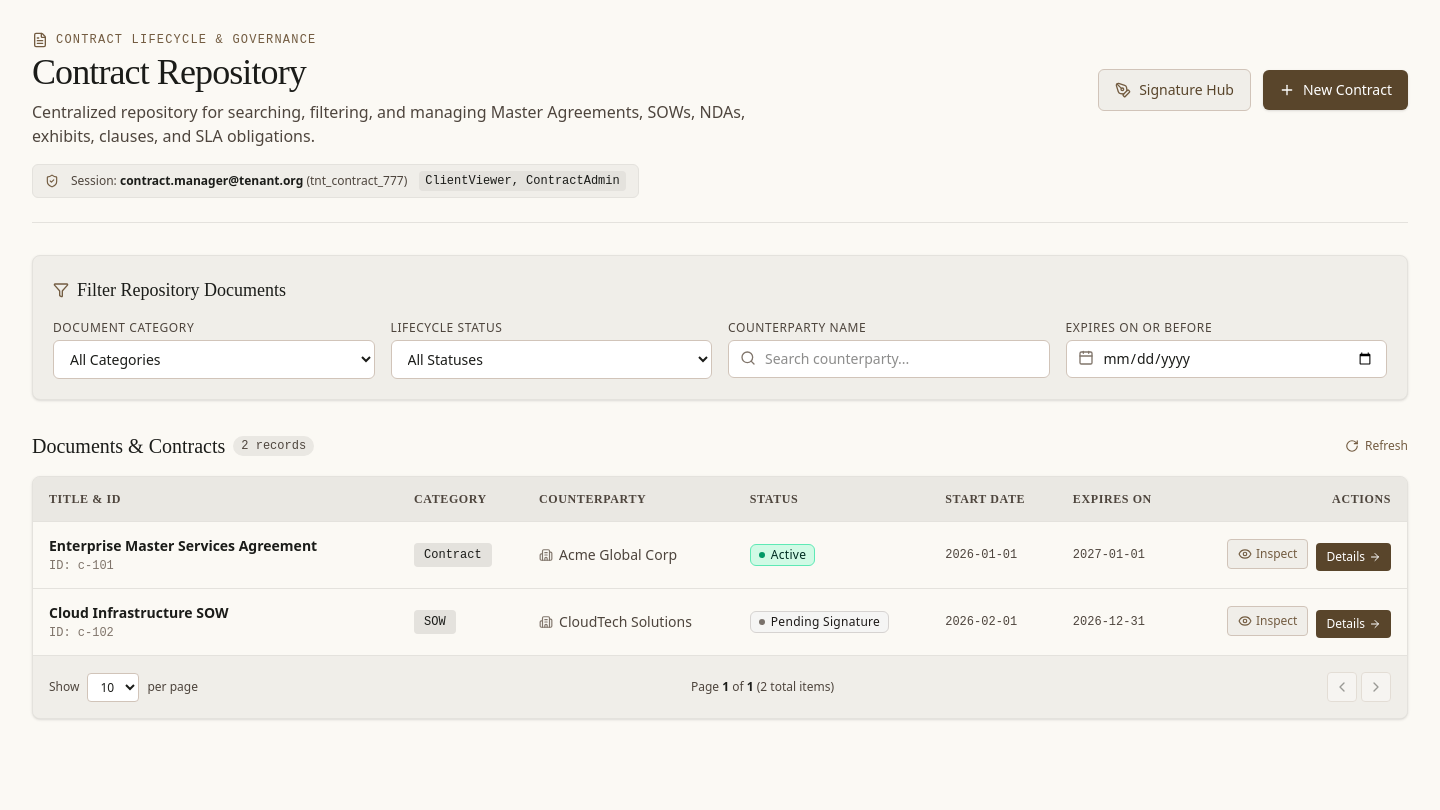
Test: ContractsPage Repository Component › filters contracts by category, status, counterparty, and expiration date [FR-11]
This screenshot has width=1440, height=810.
Expected: the text "Enterprise Master Services Agreement" is shown, x1=49 y1=536 x2=317 y2=556
// Filter by Category
Select "SOW" in the dropdown with test id "category-filter" at (214, 360), box x1=53 y1=340 x2=374 y2=379
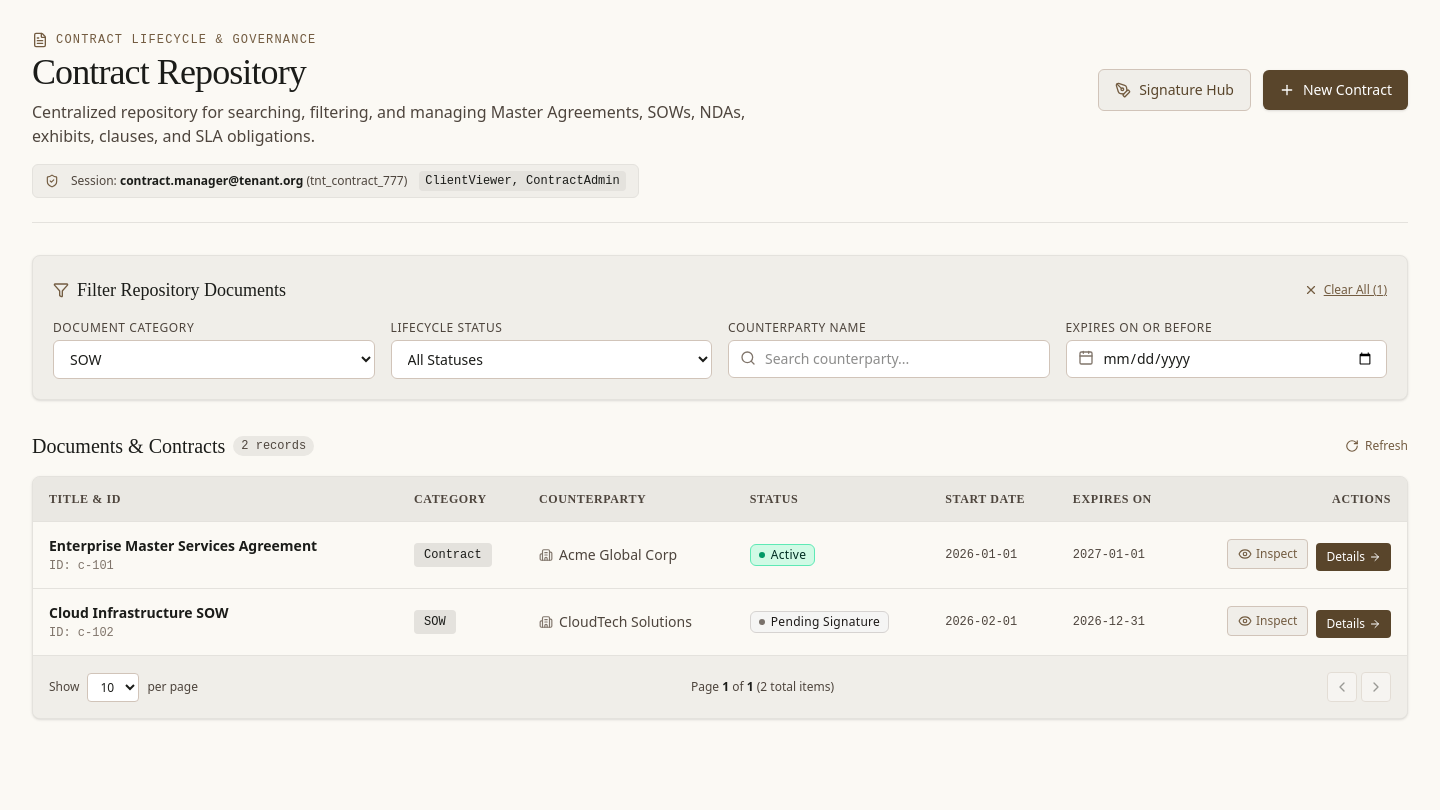
// Filter by Status
Select "PENDING SIGNATURE" in the dropdown with test id "status-filter" at (551, 360), box x1=390 y1=340 x2=712 y2=379
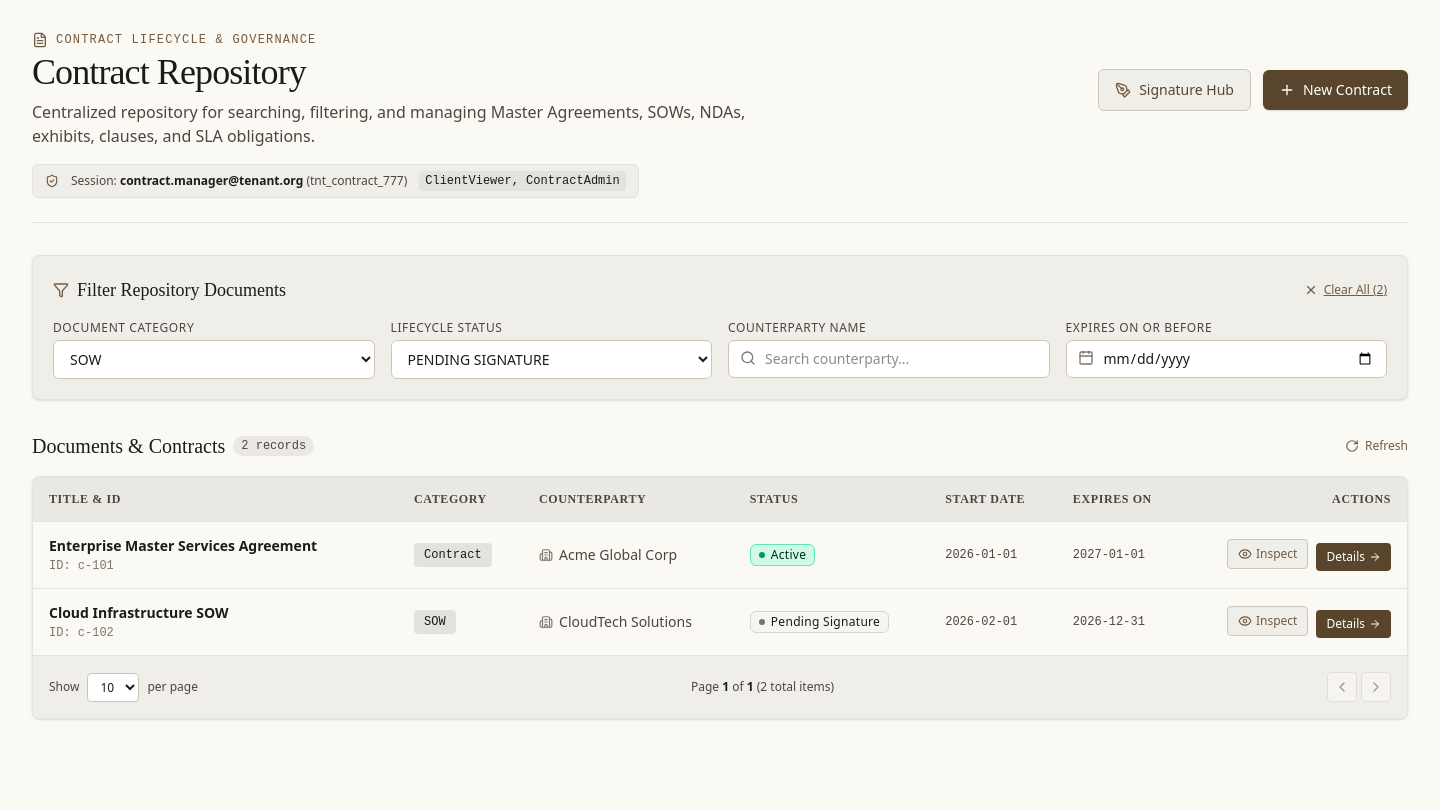
// Filter by Counterparty
Type "Acme" into the field with test id "counterparty-search".
click(889, 359); type("Acme")  # box x1=728 y1=340 x2=1050 y2=378
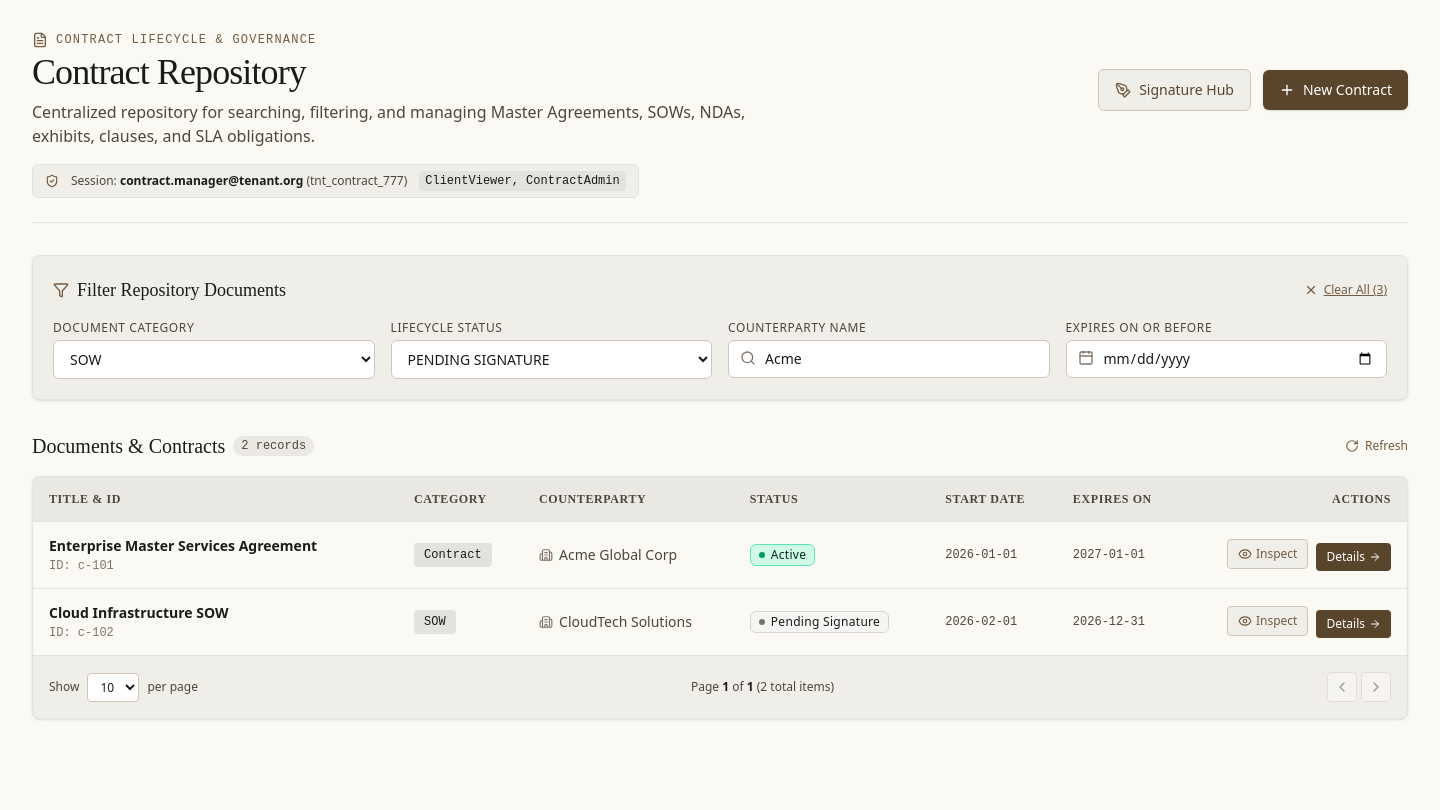
// Filter by Expiration Date
Type "2026-12-31" into the date field with test id "expiration-filter".
click(1226, 359); type("2026-12-31")  # box x1=1066 y1=340 x2=1387 y2=378
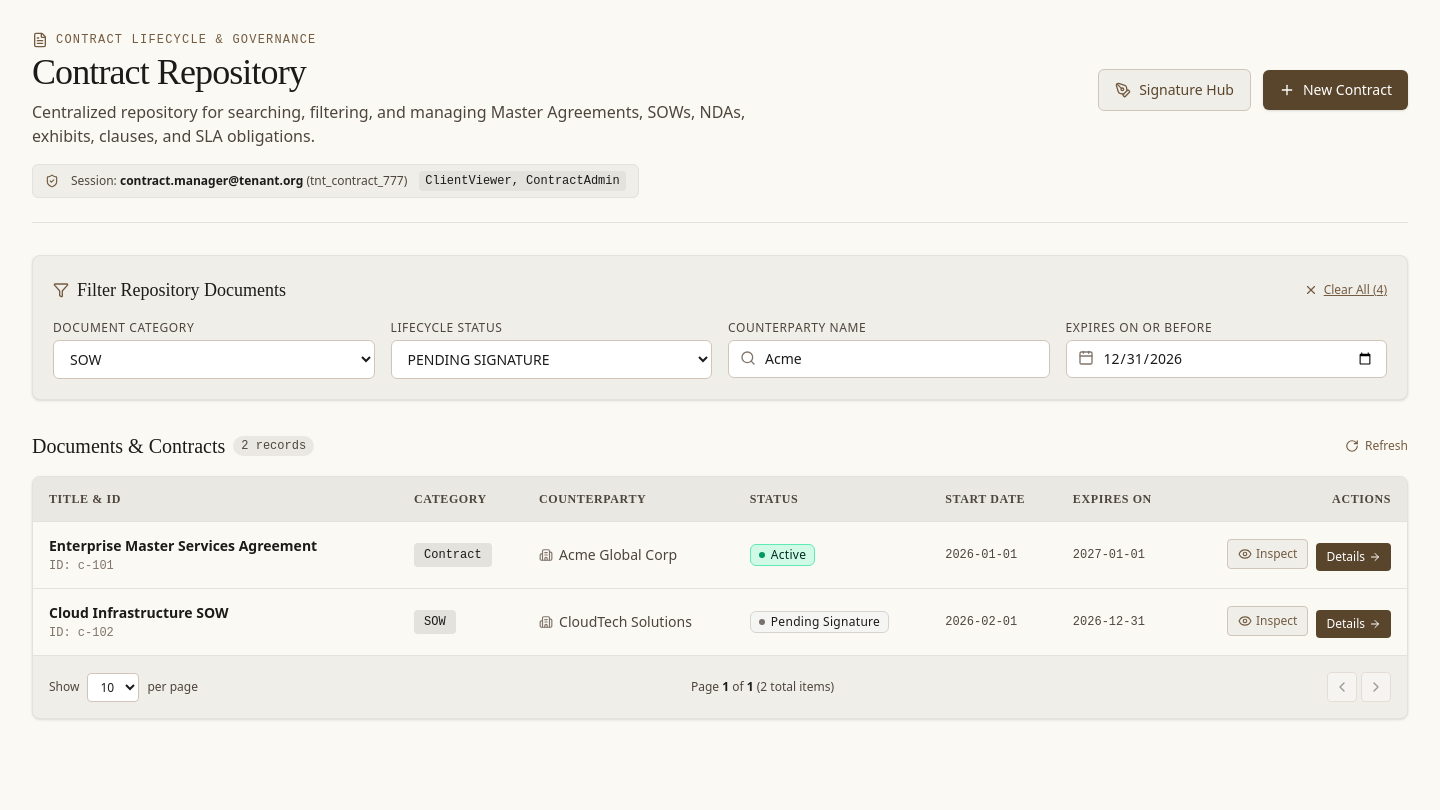
// Reset Filters
Click the button with test id "clear-filters-btn".
click(1345, 290)  # box x1=1304 y1=282 x2=1387 y2=298
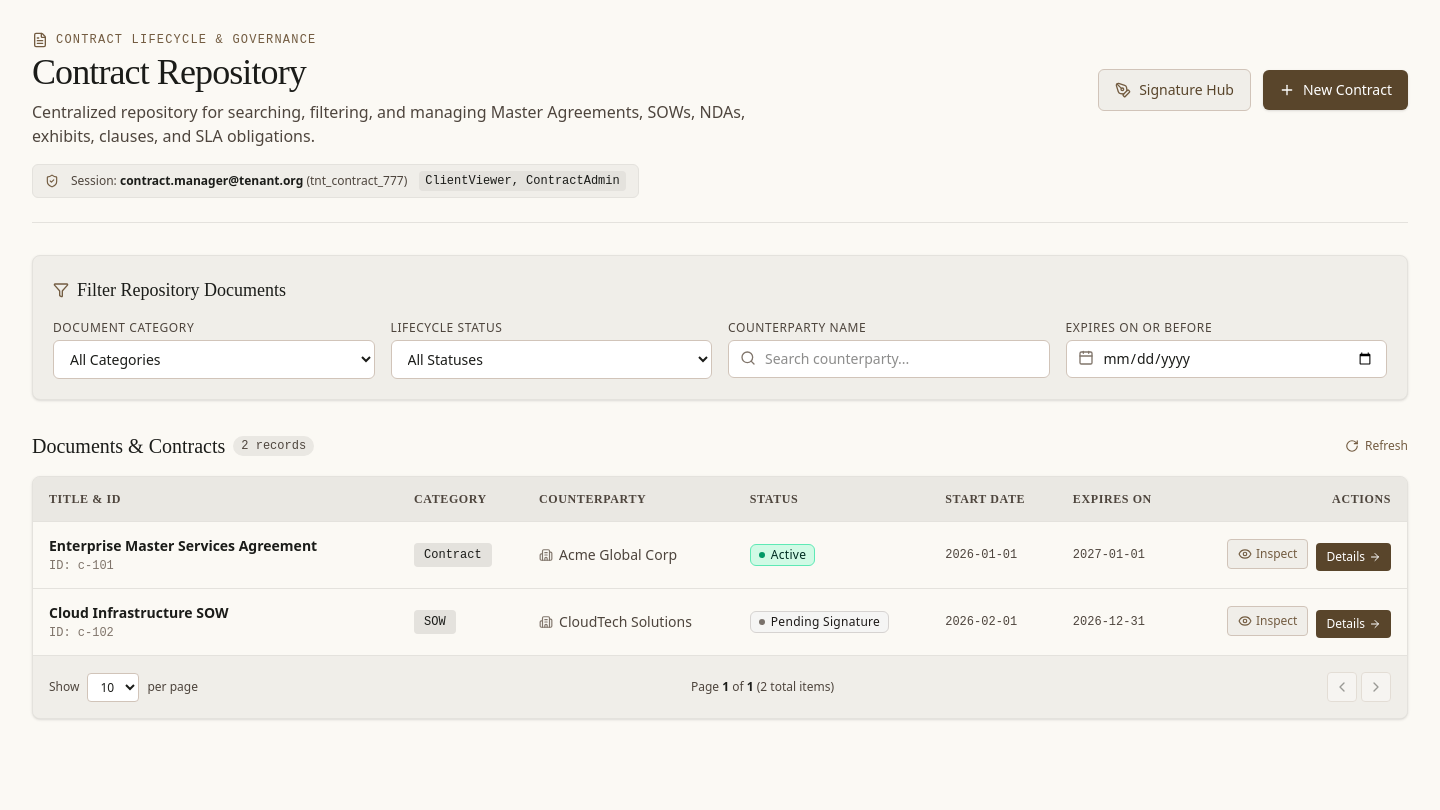
Now the field with test id "counterparty-search" is empty, box x1=728 y1=340 x2=1050 y2=378
Now the date field with test id "expiration-filter" is empty, box x1=1066 y1=340 x2=1387 y2=378
